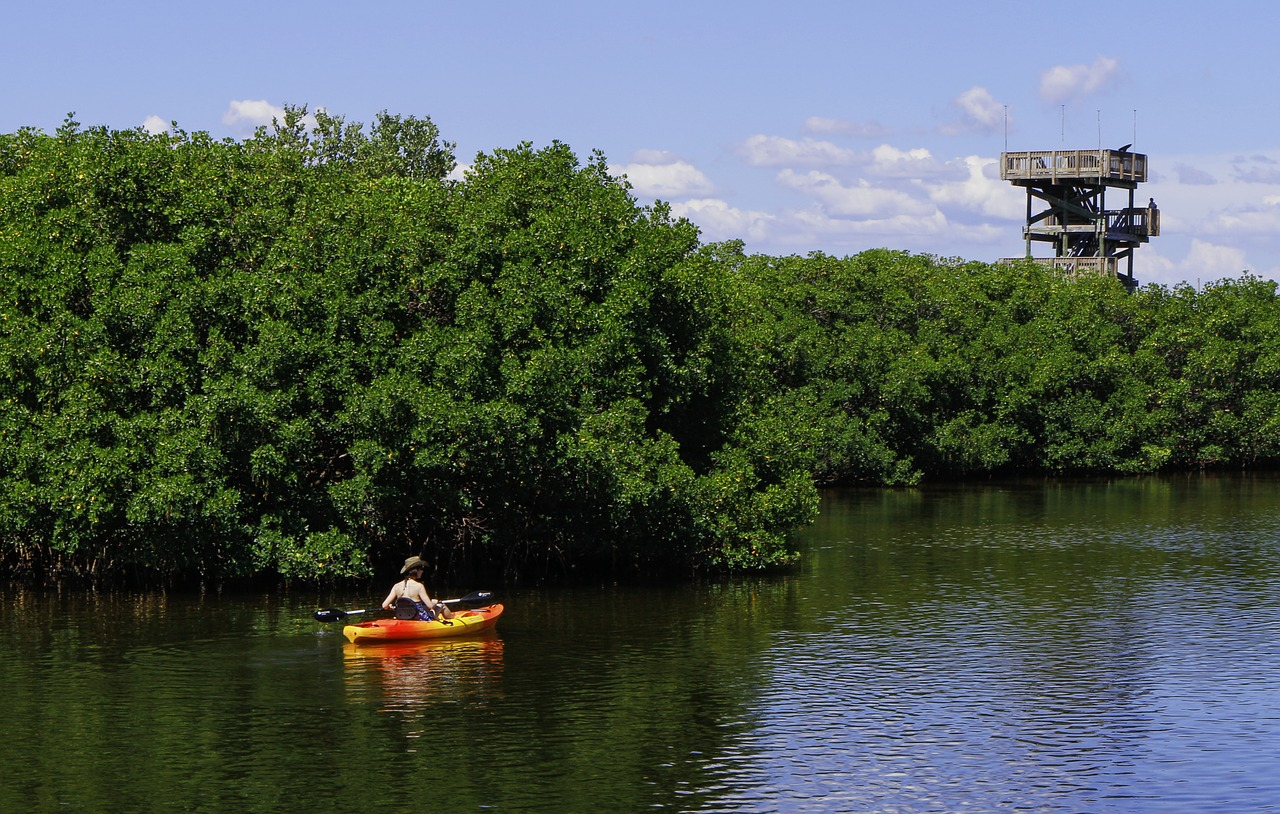kayak: (341, 600, 504, 646)
